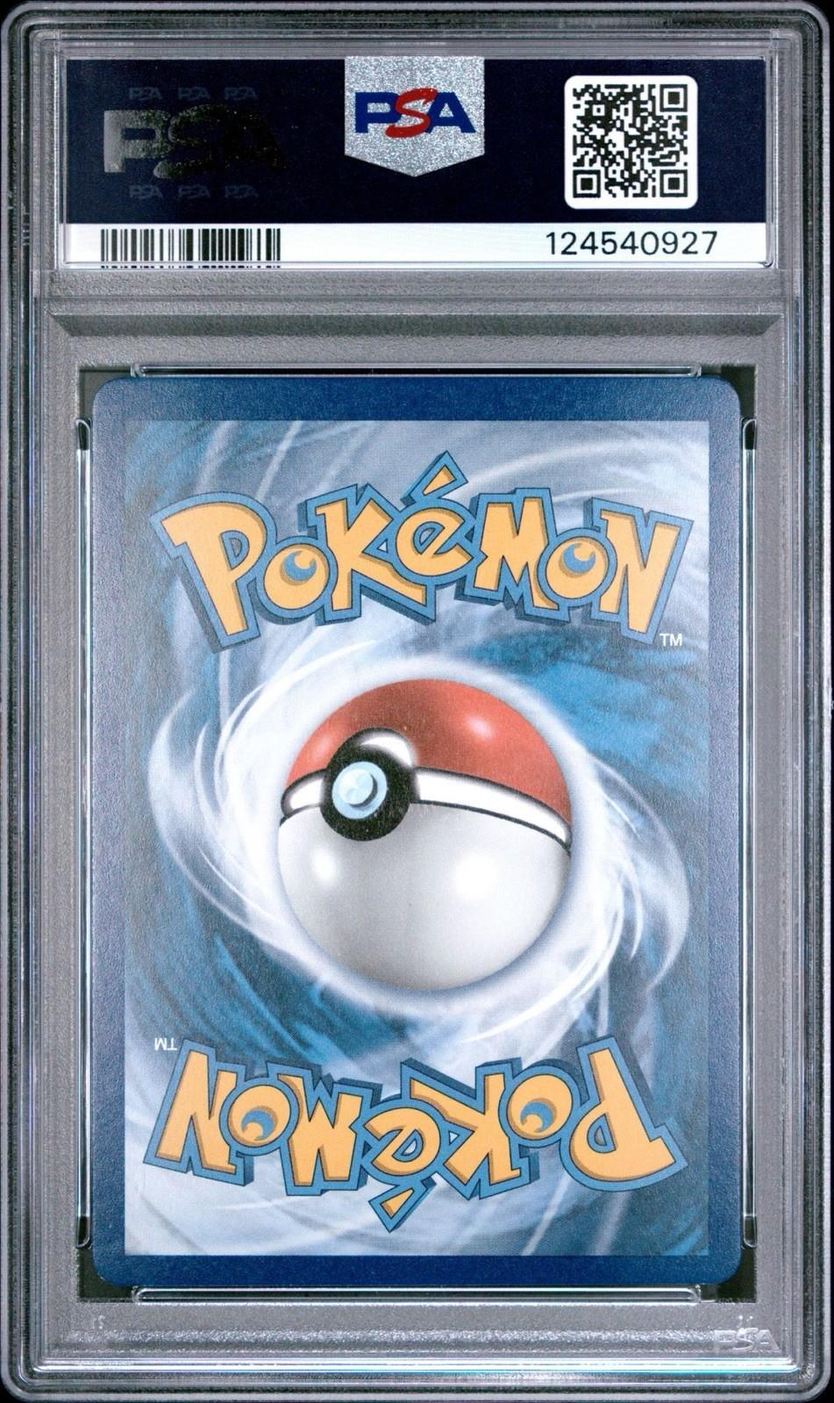card-2UtV: (91, 376, 744, 1288)
